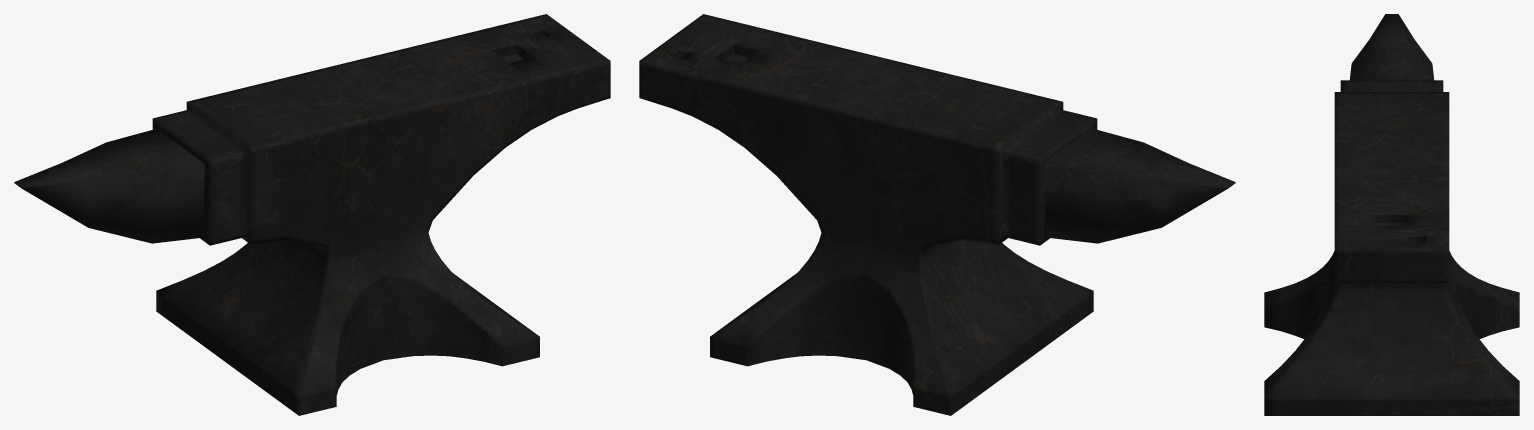
File: Anvil.glb
3 renders of one model, left to right at view 1: azimuth 30°, elevation 25°; view 2: azimuth 150°, elevation 25°; view 3: azimuth 270°, elevation 25°, orthographic. The views are drawn at different scales.
Parts seen in each view (by area): view 1: Plane.003; view 2: Plane.003; view 3: Plane.003.
Boxes of the visible parts, x1=… form: Plane.003: x1=14, y1=14, x2=610, y2=415; Plane.003: x1=639, y1=14, x2=1235, y2=415; Plane.003: x1=1264, y1=14, x2=1519, y2=415.
Bounding box in the file's own units: 4.58 × 1.88 × 2.02.
1 material, 1 textured.
